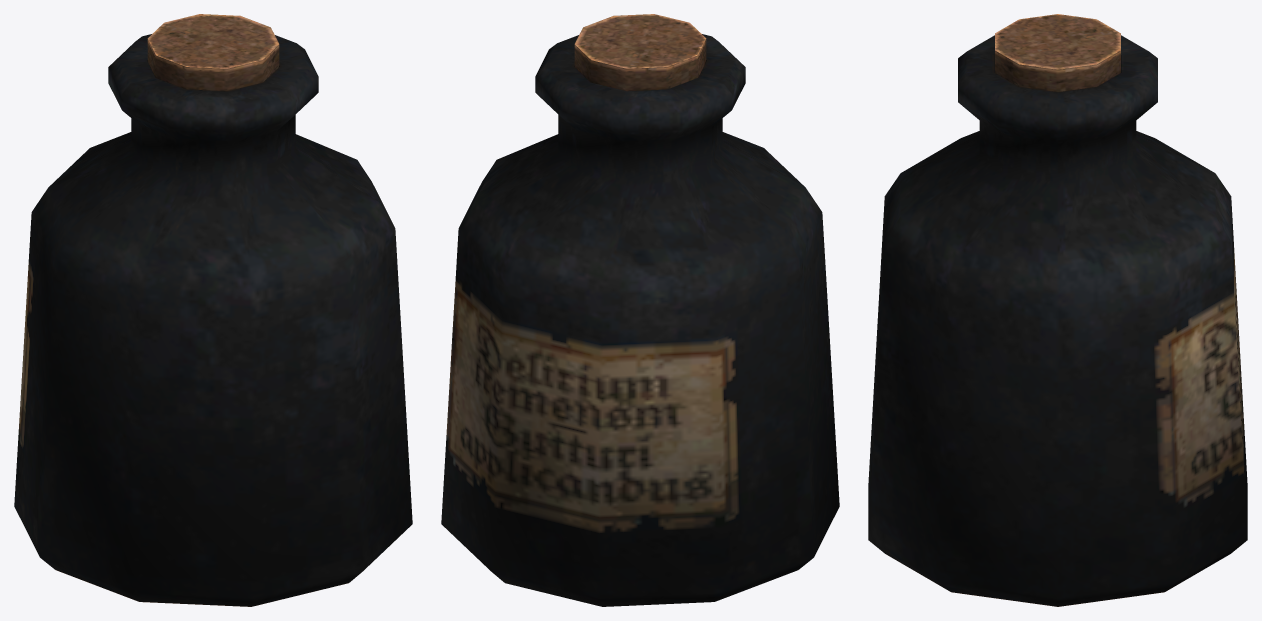
File: flask01.dae
3 renders of one model, left to right at view 1: azimuth 30°, elevation 25°; view 2: azimuth 150°, elevation 25°; view 3: azimuth 270°, elevation 25°, orthographic.
Parts seen in each view (by area): view 1: Flask01; view 2: Flask01; view 3: Flask01.
Boxes of the visible parts, x1,y1,x2,y2 form: Flask01: (14, 14, 412, 606); Flask01: (441, 14, 839, 606); Flask01: (868, 14, 1247, 606).
Size of the model in its own units: 0.2222 by 0.2113 by 0.3.
